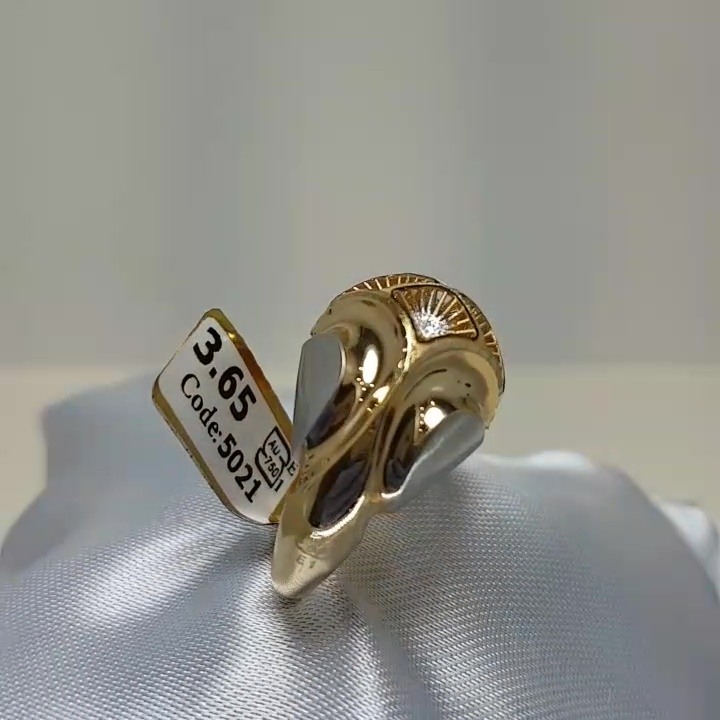Ring 2: (239, 259, 515, 637)
